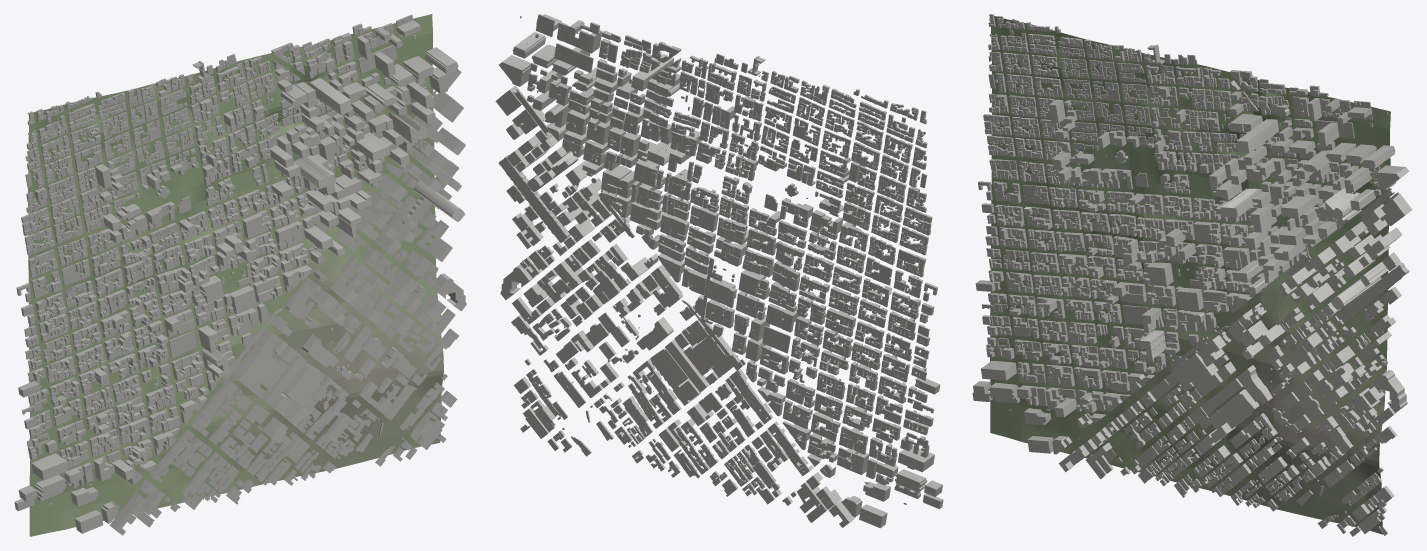
The picture shows the model from 3 angles, left to right: view 1: azimuth 30°, elevation 25°; view 2: azimuth 150°, elevation 25°; view 3: azimuth 330°, elevation 25°; orthographic projection.
Visible parts, largest first — view 1: buildings, terrain; view 2: buildings; view 3: buildings, terrain.
Part boxes in pixels (x1,y1,x2,y2): buildings: [14, 14, 466, 535]; terrain: [28, 14, 443, 536]; buildings: [495, 14, 943, 528]; buildings: [972, 14, 1412, 536]; terrain: [990, 16, 1390, 534].
Size of the model in its own units: 2190 by 2132 by 351.
